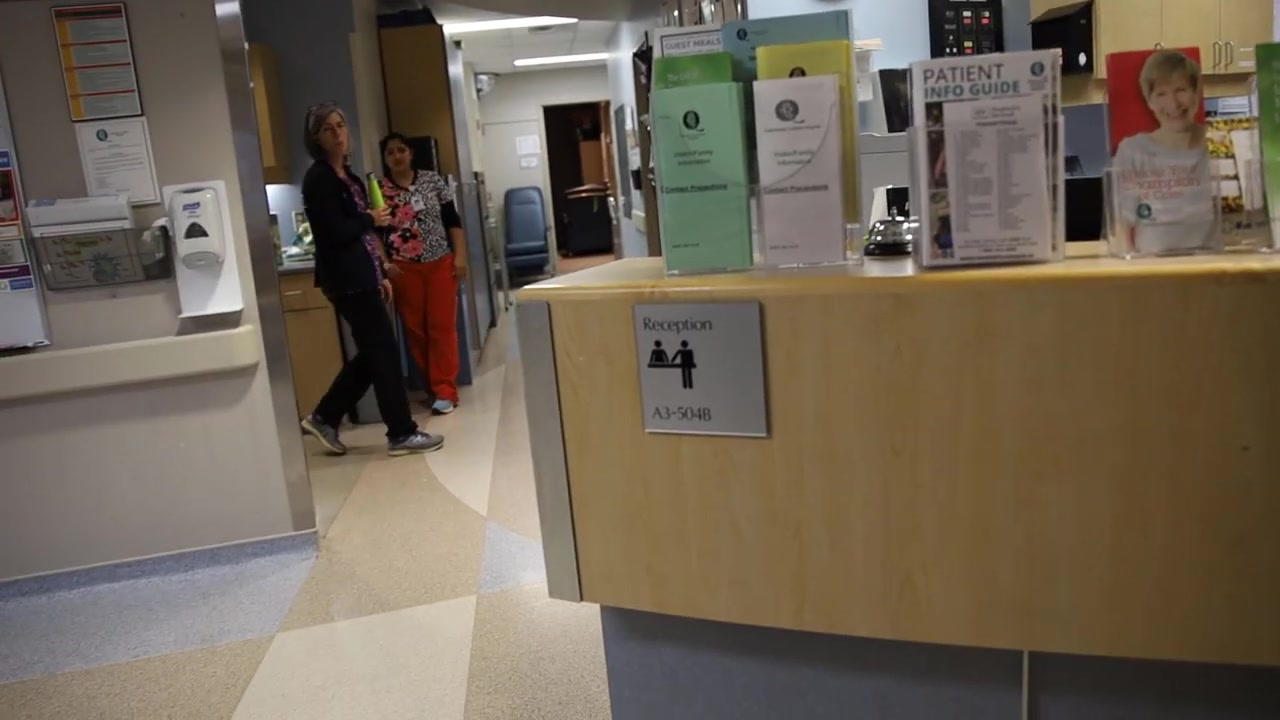cabinet: (1034, 1, 1272, 104)
chair: (503, 185, 553, 286)
counter: (519, 256, 1277, 716), (278, 253, 345, 411)
dispenser: (161, 180, 245, 319)
hallway_assist_bar: (1, 324, 260, 398)
handle: (1213, 40, 1223, 67), (1224, 41, 1234, 66), (283, 290, 303, 296)
person: (300, 99, 444, 457), (374, 132, 469, 414)
